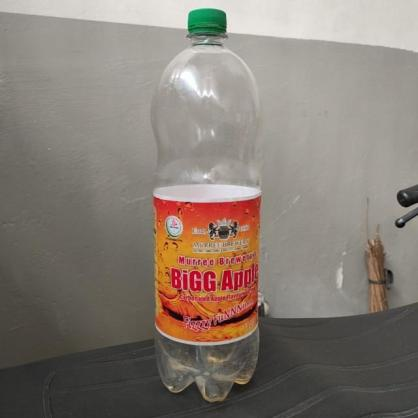bottle: (150, 9, 267, 399)
cap: (187, 8, 230, 42)
label: (149, 192, 265, 346)
